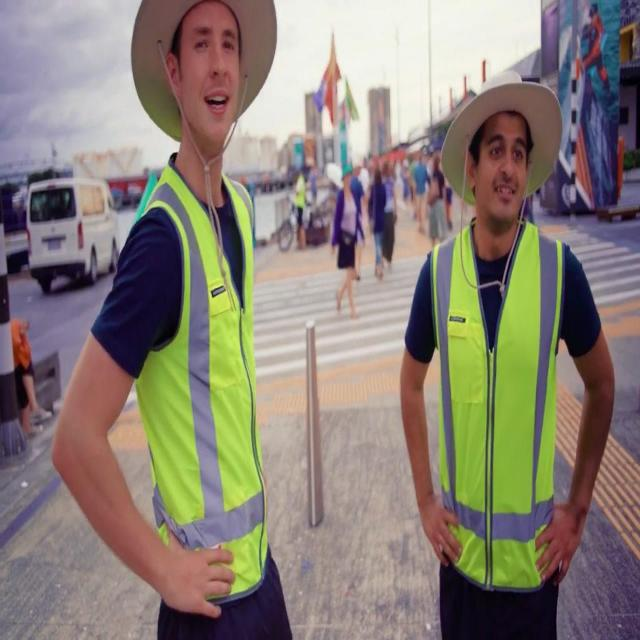Reflective-Jacket: (133, 163, 271, 608), (423, 222, 574, 595)
